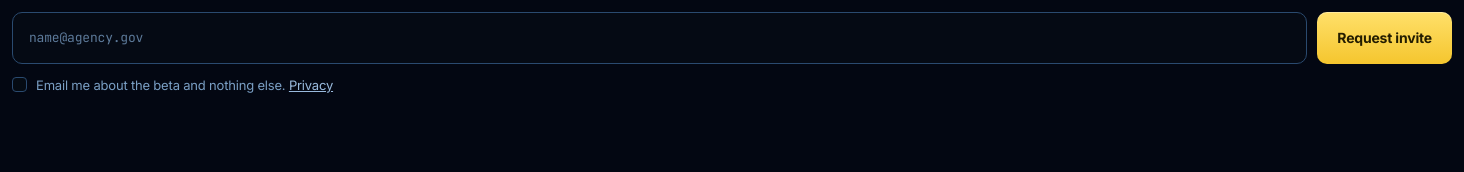
BetaForm › shows the retry message on {ok:false, error:"server"}
In the field named "email": [660, 38] box x1=12 y1=12 x2=1307 y2=64, type "a@agency.gov"
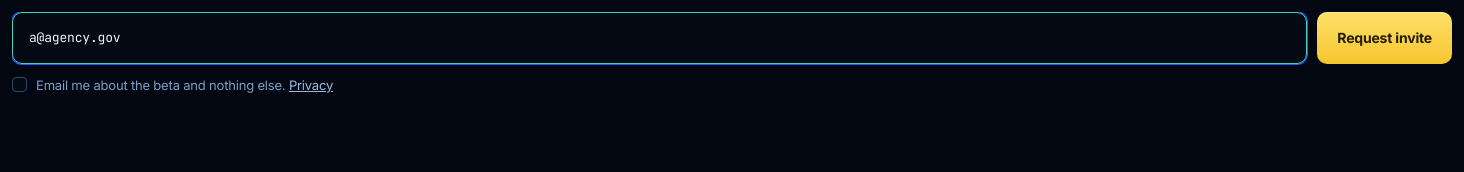
Click the checkbox: [20, 84] box x1=12 y1=77 x2=27 y2=92
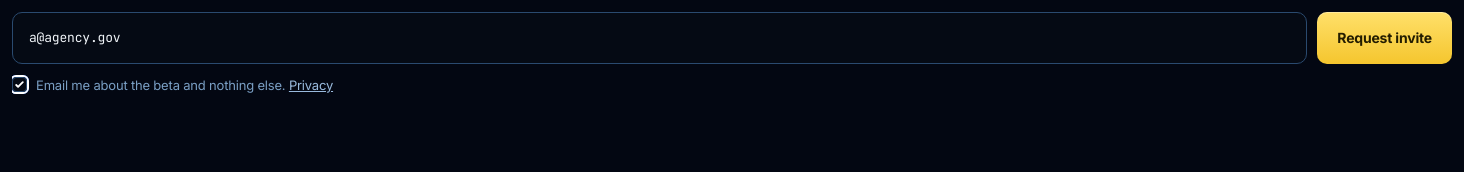
Click the button "Request invite": [1385, 38] box x1=1317 y1=12 x2=1452 y2=64
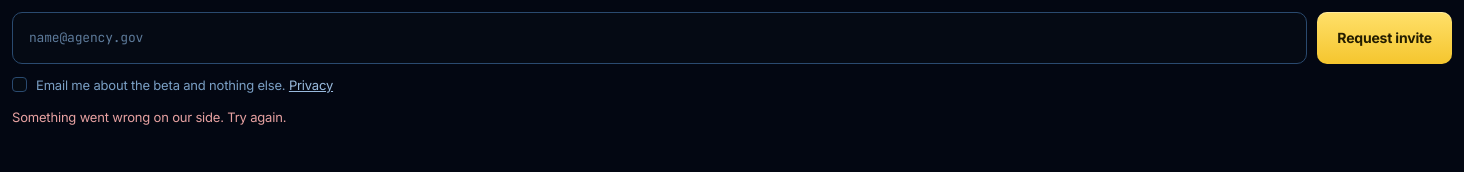
Expected: the text "Something went wrong on our side. Try again." is shown, x1=12 y1=108 x2=286 y2=124
